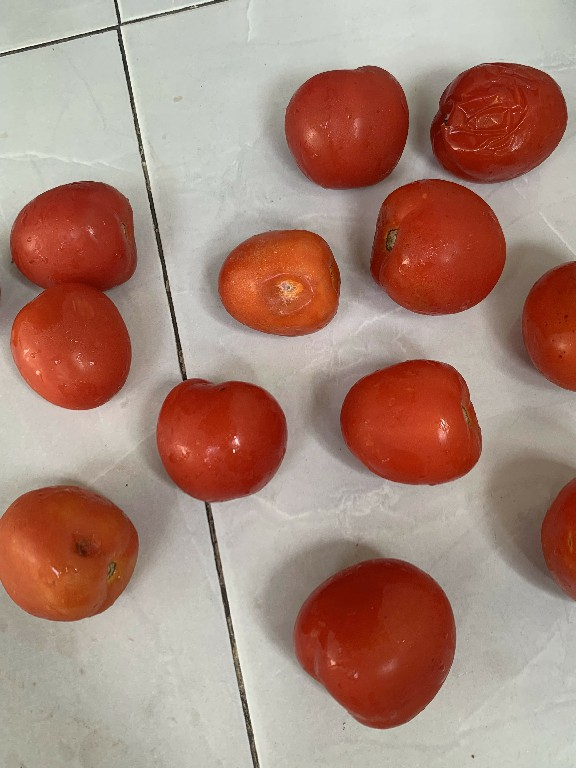NG: (0, 479, 138, 630), (429, 56, 575, 182), (214, 224, 344, 342)
OK: (288, 550, 460, 737), (335, 357, 484, 488), (370, 177, 506, 317), (279, 57, 417, 194), (153, 366, 285, 507), (8, 284, 132, 412), (9, 174, 137, 292)
